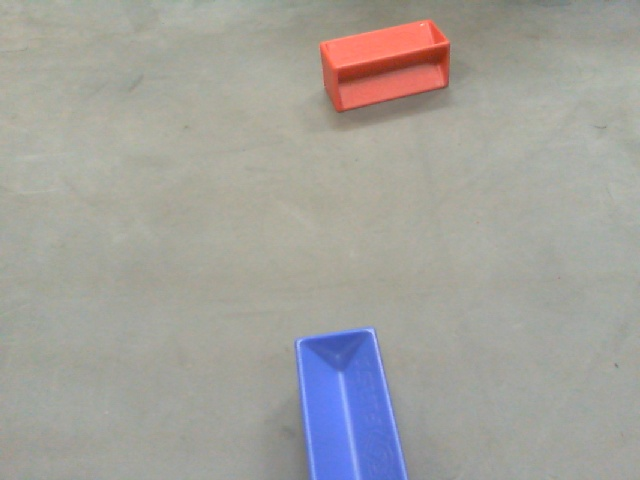BlueSample: (288, 327, 409, 480)
RedSample: (312, 17, 460, 119)
